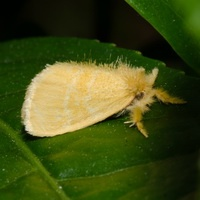insect: (21, 58, 185, 136)
